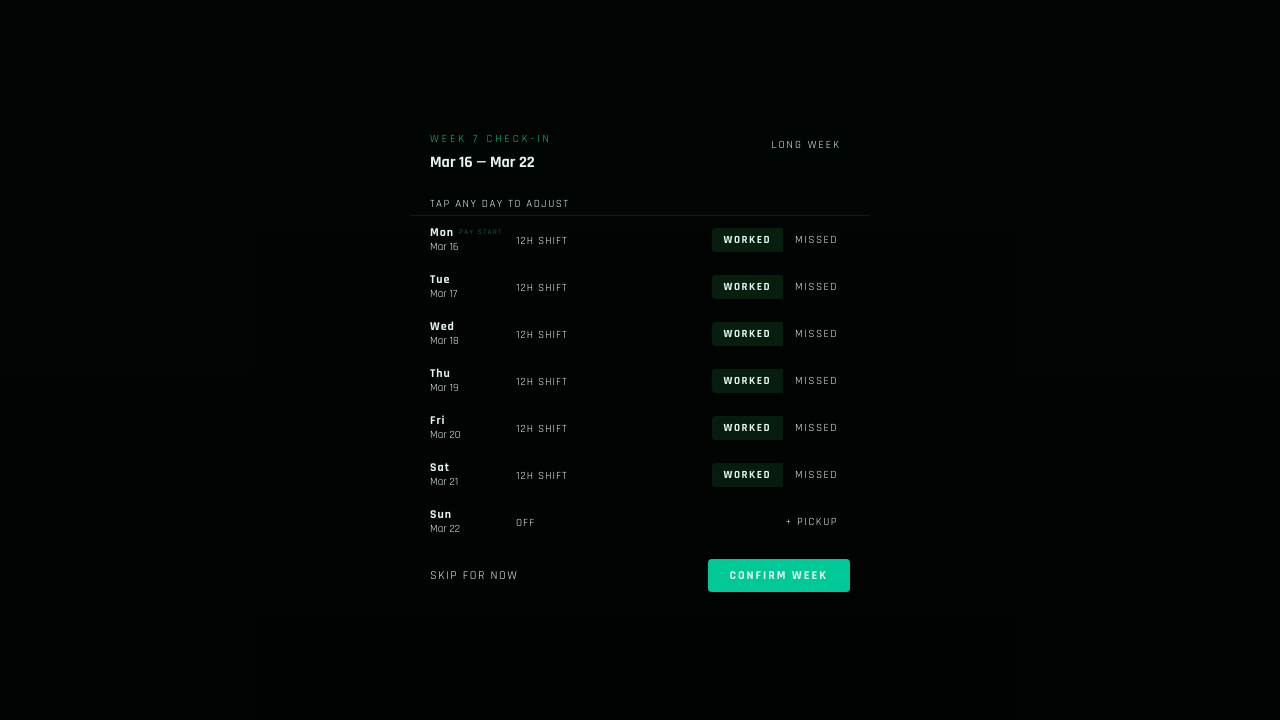
Test: WeekConfirmModal — Layer 1 day toggles › marking a scheduled day Missed switches button to "Next →"
# Click the first "Missed" button (Mon)
Click the button "Missed" in the row of "pay start".
click(816, 240)  # box [783,228,850,252]
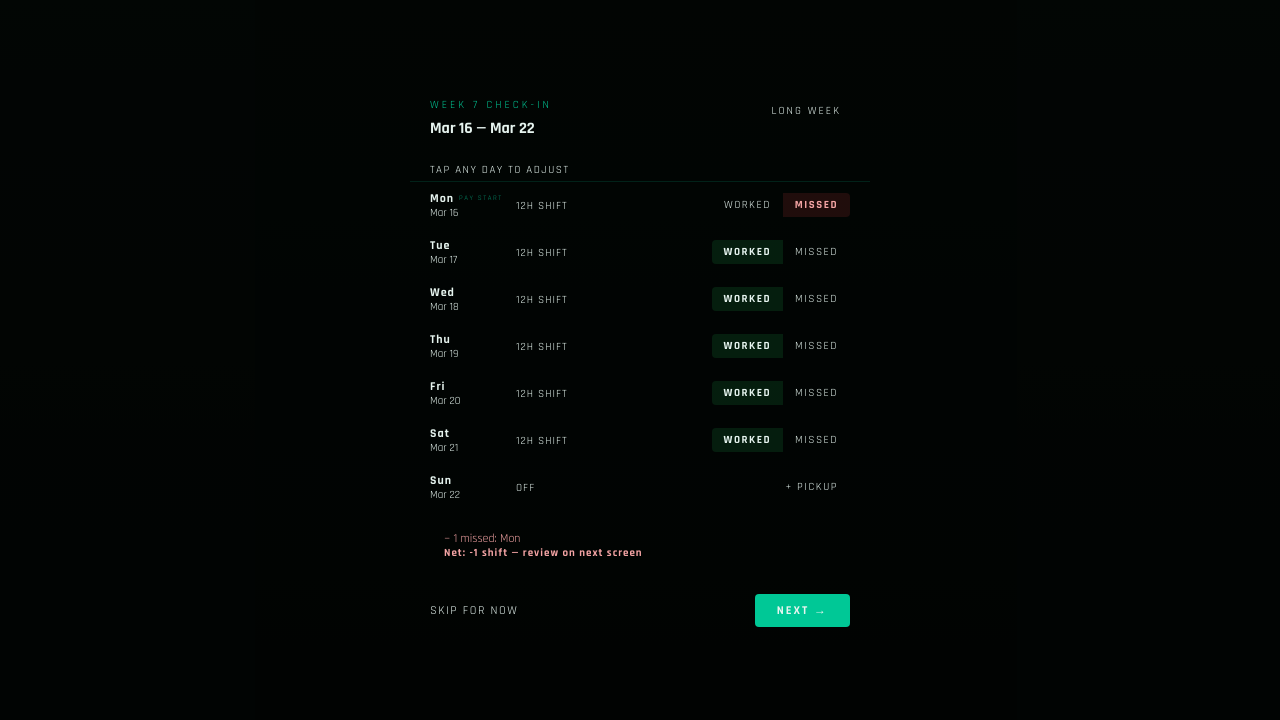
Expected: the button "Next →" is shown, [755,594,850,626]
Expected: the button "Confirm Week" is gone
